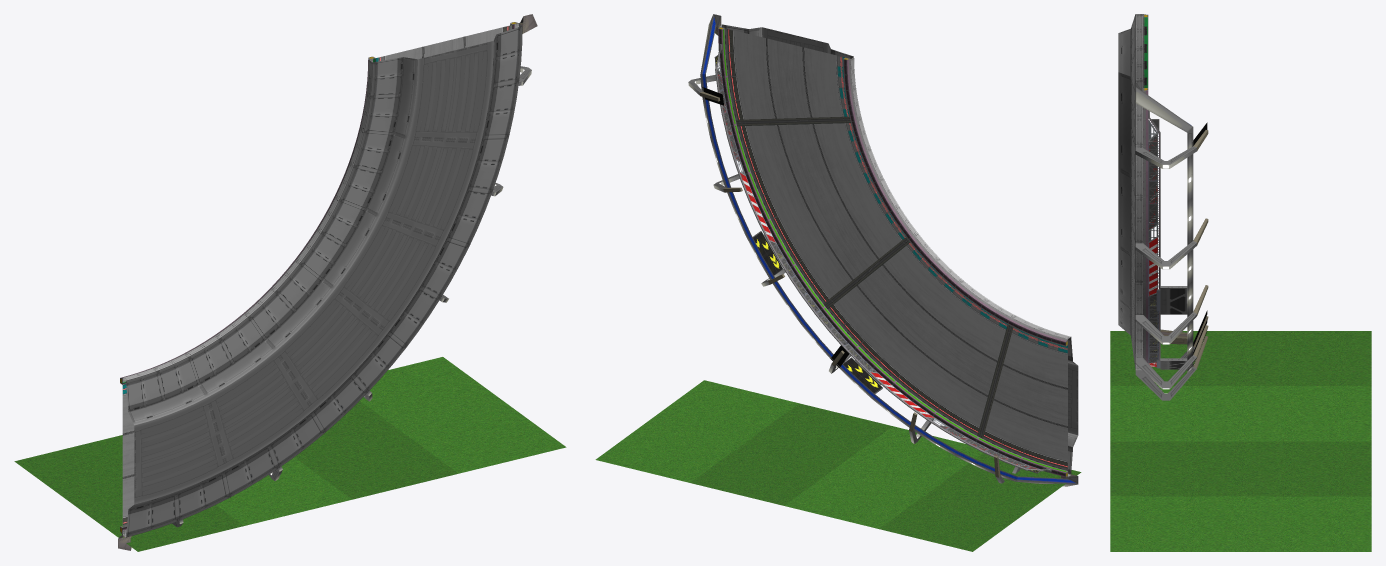
Rendered from T38 - Magnetic.fbx.
3 views of the same model, side by side, from view 1: azimuth 30°, elevation 25°; view 2: azimuth 150°, elevation 25°; view 3: azimuth 270°, elevation 25° (orthographic). The views are drawn at different scales.
Visible parts, largest first — view 1: standard_bridge6, ground, drift_road1, mag_cage8, wall_drift; view 2: drift_road1, ground, wall_drift, mag_cage8, magnetic_road_lines, standard_arrow_left, standard_bridge6; view 3: ground, standard_bridge6, mag_cage8, standard_arrow_left, wall_drift, prop_billboard_left_1.
Part boxes in pixels (x1,y1,x2,y2): standard_bridge6: (122,23,522,537); ground: (14,357,566,551); drift_road1: (122,25,512,527); mag_cage8: (118,14,537,550); wall_drift: (120,22,518,534); drift_road1: (725,28,1067,470); ground: (595,380,1081,551); wall_drift: (718,27,1067,477); mag_cage8: (688,14,1078,486); magnetic_road_lines: (744,38,1067,429); standard_arrow_left: (714,44,1051,473); standard_bridge6: (719,24,1078,476); ground: (1110,331,1371,551); standard_bridge6: (1118,14,1142,370); mag_cage8: (1135,82,1208,400); standard_arrow_left: (1148,110,1160,367); wall_drift: (1143,14,1148,362); prop_billboard_left_1: (1156,286,1187,314).
Size of the model in its own units: 13045 by 12740 by 6400.
